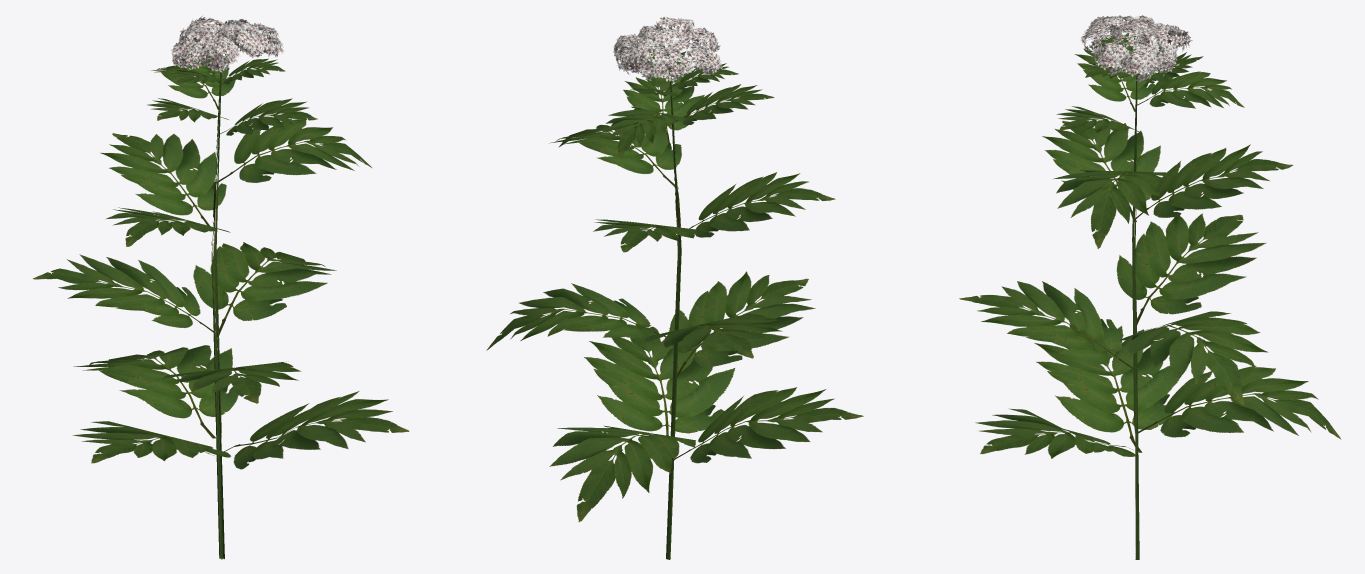
File: smrdljivi_bezeg2.gltf
3 renders of one model, left to right at view 1: azimuth 30°, elevation 25°; view 2: azimuth 150°, elevation 25°; view 3: azimuth 270°, elevation 25°, orthographic. The views are drawn at different scales.
Visible parts, largest first — view 1: smrdljivibezeg_veja.009, smrdljivibezeg_veja.015, smrdljivibezeg_veja.012, smrdljivibezeg_veja.011, smrdljivibezeg_veja.013, smrdljivibezeg_veja.001, smrdljivibezeg_veja.014, smrdljivibezeg_veja.010, Cube.002, smrdljivibezeg_veja.002, smrdljivibezeg_veja.007, smrdljivibezeg_veja.006 (+2 smaller); view 2: smrdljivibezeg_veja.013, smrdljivibezeg_veja.012, smrdljivibezeg_veja.014, smrdljivibezeg_veja.010, smrdljivibezeg_veja.009, smrdljivibezeg_veja.002, smrdljivibezeg_veja.001, smrdljivibezeg_veja.011, smrdljivibezeg_veja.007, Cube.002, smrdljivibezeg_veja.006, smrdljivibezeg_veja.008 (+2 smaller); view 3: smrdljivibezeg_veja.011, smrdljivibezeg_veja.014, smrdljivibezeg_veja.012, smrdljivibezeg_veja.010, smrdljivibezeg_veja.009, smrdljivibezeg_veja.015, smrdljivibezeg_veja.001, smrdljivibezeg_veja.002, smrdljivibezeg_veja.013, smrdljivibezeg_veja.006, Cube.002, smrdljivibezeg_veja.008 (+2 smaller).
Boxes of the visible parts, bbox=[...] form: smrdljivibezeg_veja.009: bbox=[193, 242, 336, 337]; smrdljivibezeg_veja.015: bbox=[100, 133, 226, 225]; smrdljivibezeg_veja.012: bbox=[73, 345, 238, 438]; smrdljivibezeg_veja.011: bbox=[33, 254, 216, 333]; smrdljivibezeg_veja.013: bbox=[224, 391, 409, 469]; smrdljivibezeg_veja.001: bbox=[216, 118, 371, 183]; smrdljivibezeg_veja.014: bbox=[72, 421, 230, 463]; smrdljivibezeg_veja.010: bbox=[162, 361, 301, 403]; Cube.002: bbox=[204, 47, 245, 559]; smrdljivibezeg_veja.002: bbox=[106, 207, 230, 246]; smrdljivibezeg_veja.007: bbox=[220, 98, 317, 135]; smrdljivibezeg_veja.006: bbox=[151, 63, 235, 109]; smrdljivibezeg_veja.013: bbox=[584, 323, 735, 435]; smrdljivibezeg_veja.012: bbox=[549, 425, 695, 521]; smrdljivibezeg_veja.014: bbox=[672, 387, 863, 463]; smrdljivibezeg_veja.010: bbox=[669, 271, 815, 377]; smrdljivibezeg_veja.009: bbox=[486, 283, 666, 350]; smrdljivibezeg_veja.002: bbox=[679, 172, 835, 237]; smrdljivibezeg_veja.001: bbox=[549, 122, 681, 187]; smrdljivibezeg_veja.011: bbox=[643, 313, 782, 358]; smrdljivibezeg_veja.007: bbox=[623, 74, 704, 143]; Cube.002: bbox=[651, 57, 695, 559]; smrdljivibezeg_veja.006: bbox=[602, 106, 686, 157]; smrdljivibezeg_veja.008: bbox=[674, 84, 774, 125]; smrdljivibezeg_veja.011: bbox=[1116, 213, 1265, 325]; smrdljivibezeg_veja.014: bbox=[1034, 321, 1181, 452]; smrdljivibezeg_veja.012: bbox=[1138, 365, 1341, 439]; smrdljivibezeg_veja.010: bbox=[959, 281, 1133, 369]; smrdljivibezeg_veja.009: bbox=[1120, 311, 1268, 405]; smrdljivibezeg_veja.015: bbox=[1136, 144, 1293, 218]; smrdljivibezeg_veja.001: bbox=[1054, 170, 1172, 248]; smrdljivibezeg_veja.002: bbox=[1042, 121, 1161, 221]; smrdljivibezeg_veja.013: bbox=[975, 408, 1135, 458]; smrdljivibezeg_veja.006: bbox=[1137, 71, 1244, 108]; Cube.002: bbox=[1104, 36, 1179, 559]; smrdljivibezeg_veja.008: bbox=[1074, 40, 1154, 111].
Bounding box in the file's own units: 4.43 × 6.05 × 4.41.
3 materials, 3 textured.
